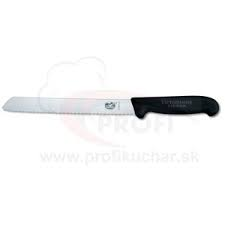knife: (2, 95, 220, 120)
